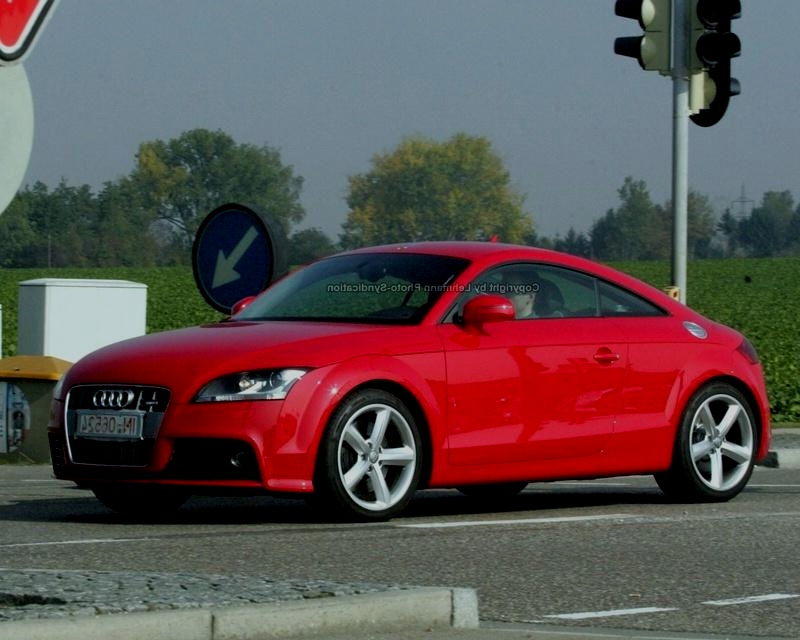car: (32, 220, 781, 559)
